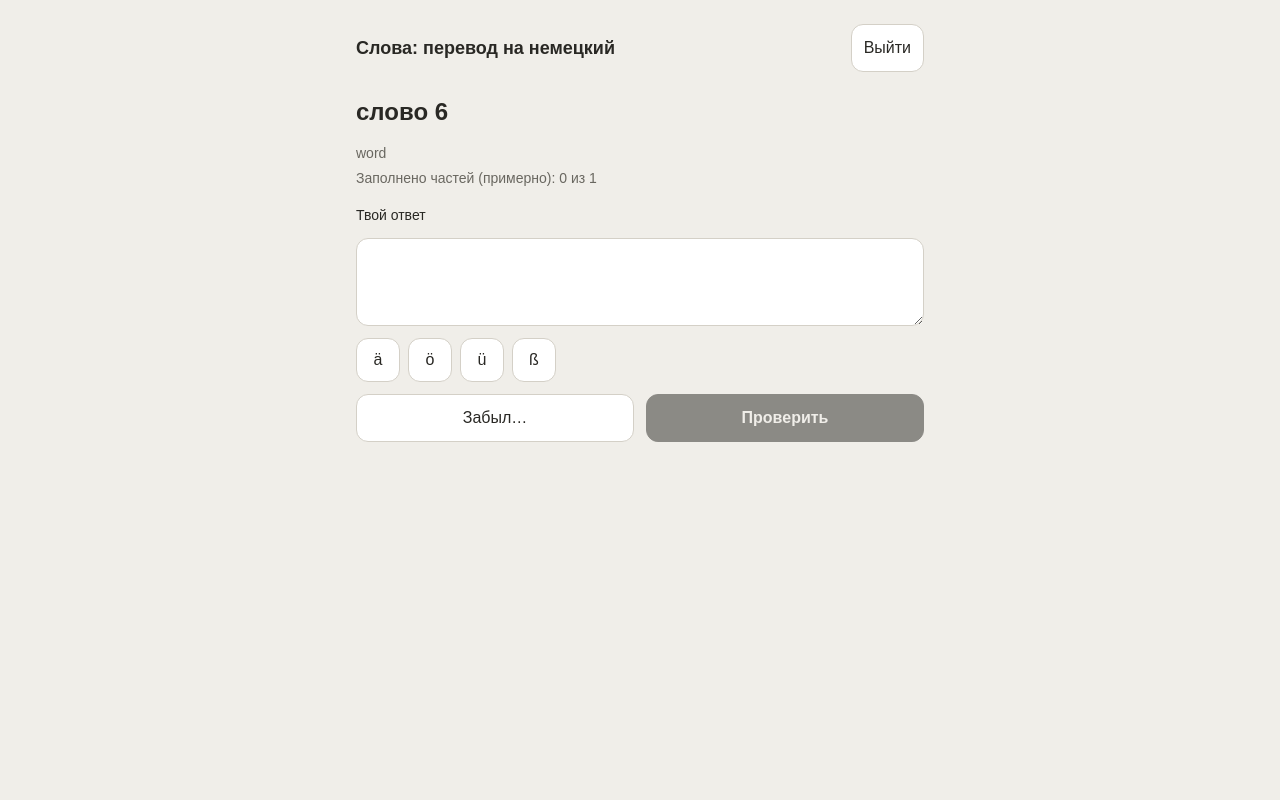
Test: «Уточнить поля» and card study actions from the written quiz (TA:115, TA:153) › Q1 the answered card opens with its editors and only the quiz direction; Back returns to the same result
Expected: the heading "слово 6" is shown, [356,98,448,125]
In the text box: (640, 282) [356,238,924,326], type "falsch"
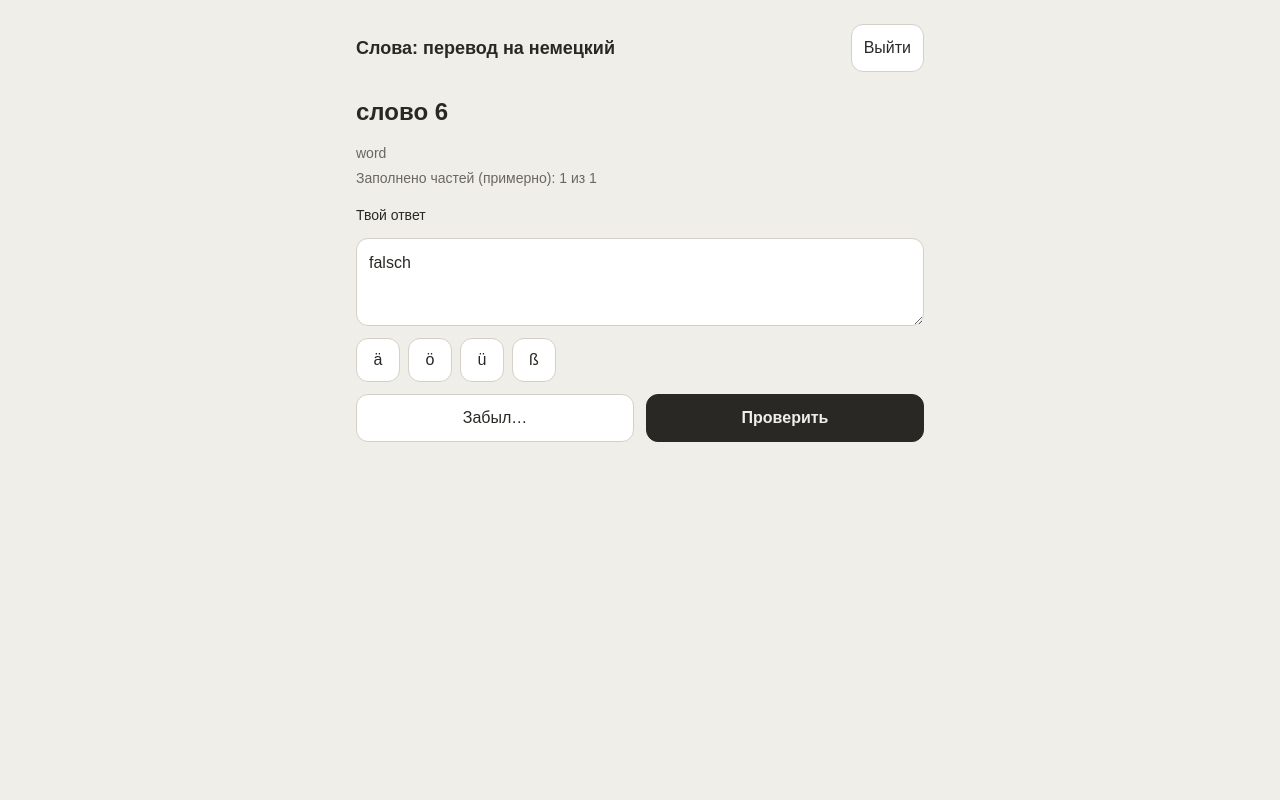
Click the button "Проверить": (785, 418) [646,394,924,442]
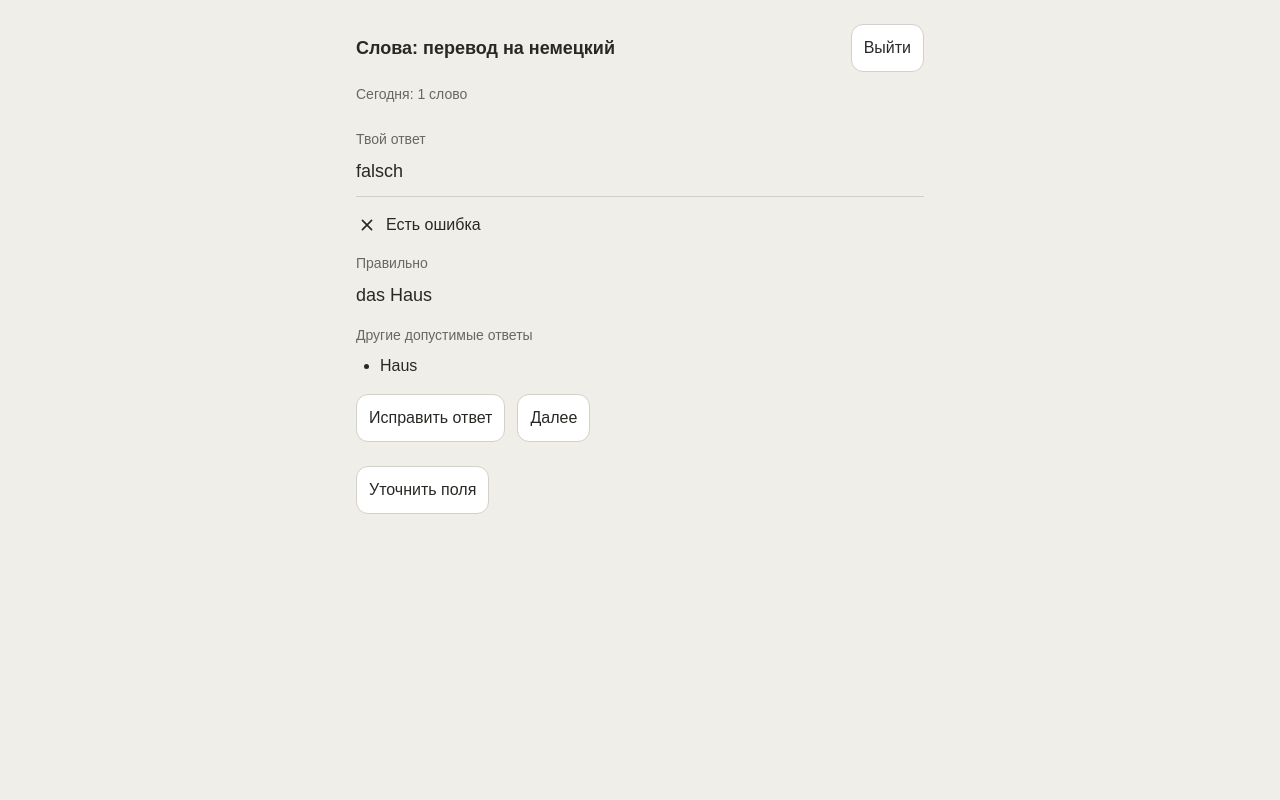
Result: the text "Есть ошибка" is shown at [356,214,481,236]
Click the button "Уточнить поля": (423, 490) [356,466,489,514]
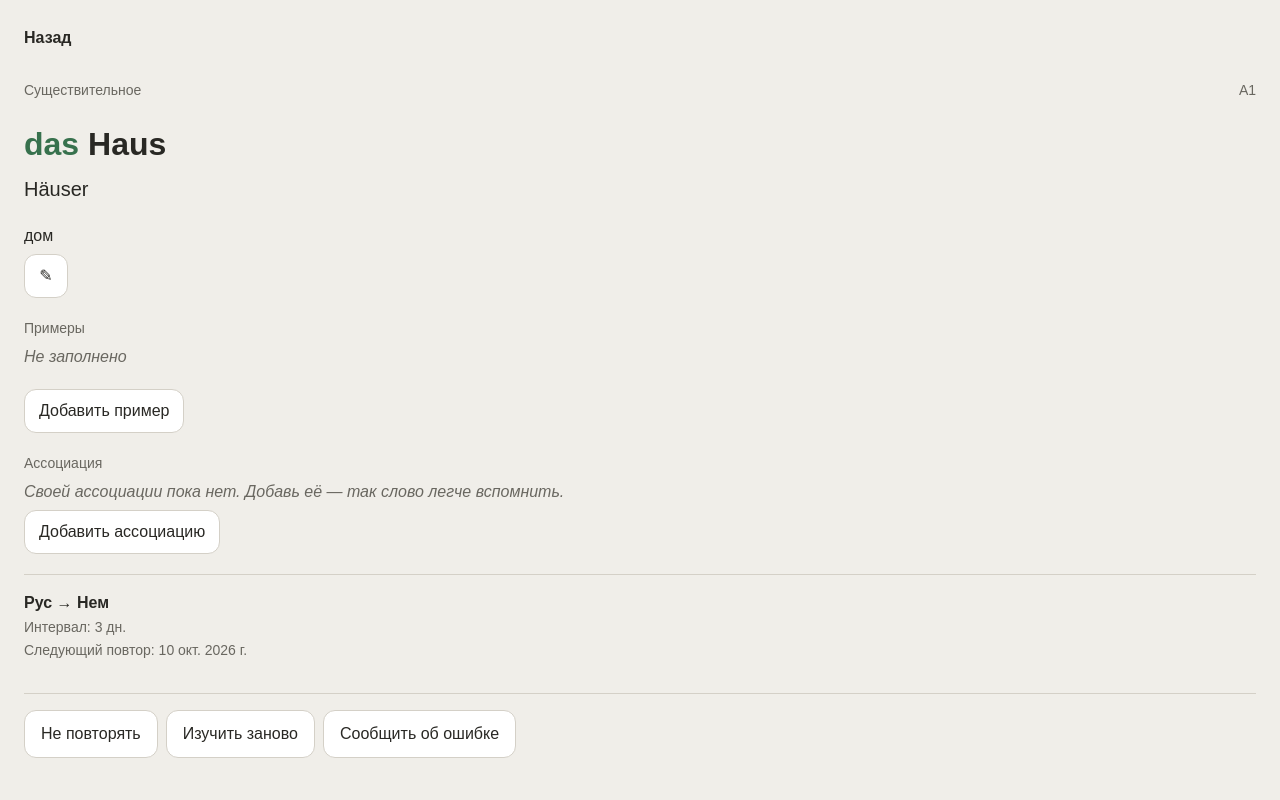
Result: the button named "Изменить личный перевод" is enabled at [24,254,68,298]
Result: the text "Есть ошибка" is gone
Result: the button "Не повторять" is shown at [24,710,158,758]
Click the button "Назад": (48, 38) [24,16,72,60]
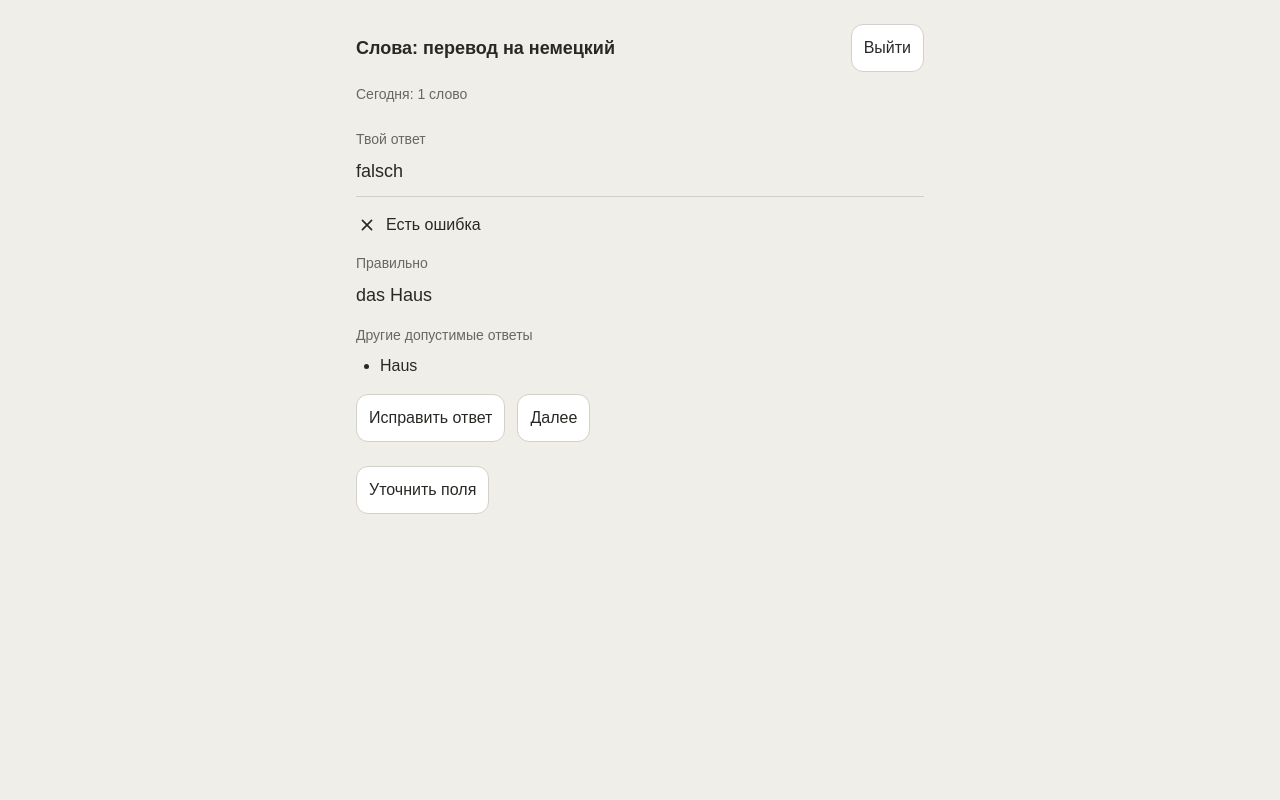
Result: the text "Есть ошибка" is shown at [356,214,481,236]
Result: the button "Далее" is shown at [517,394,590,442]
